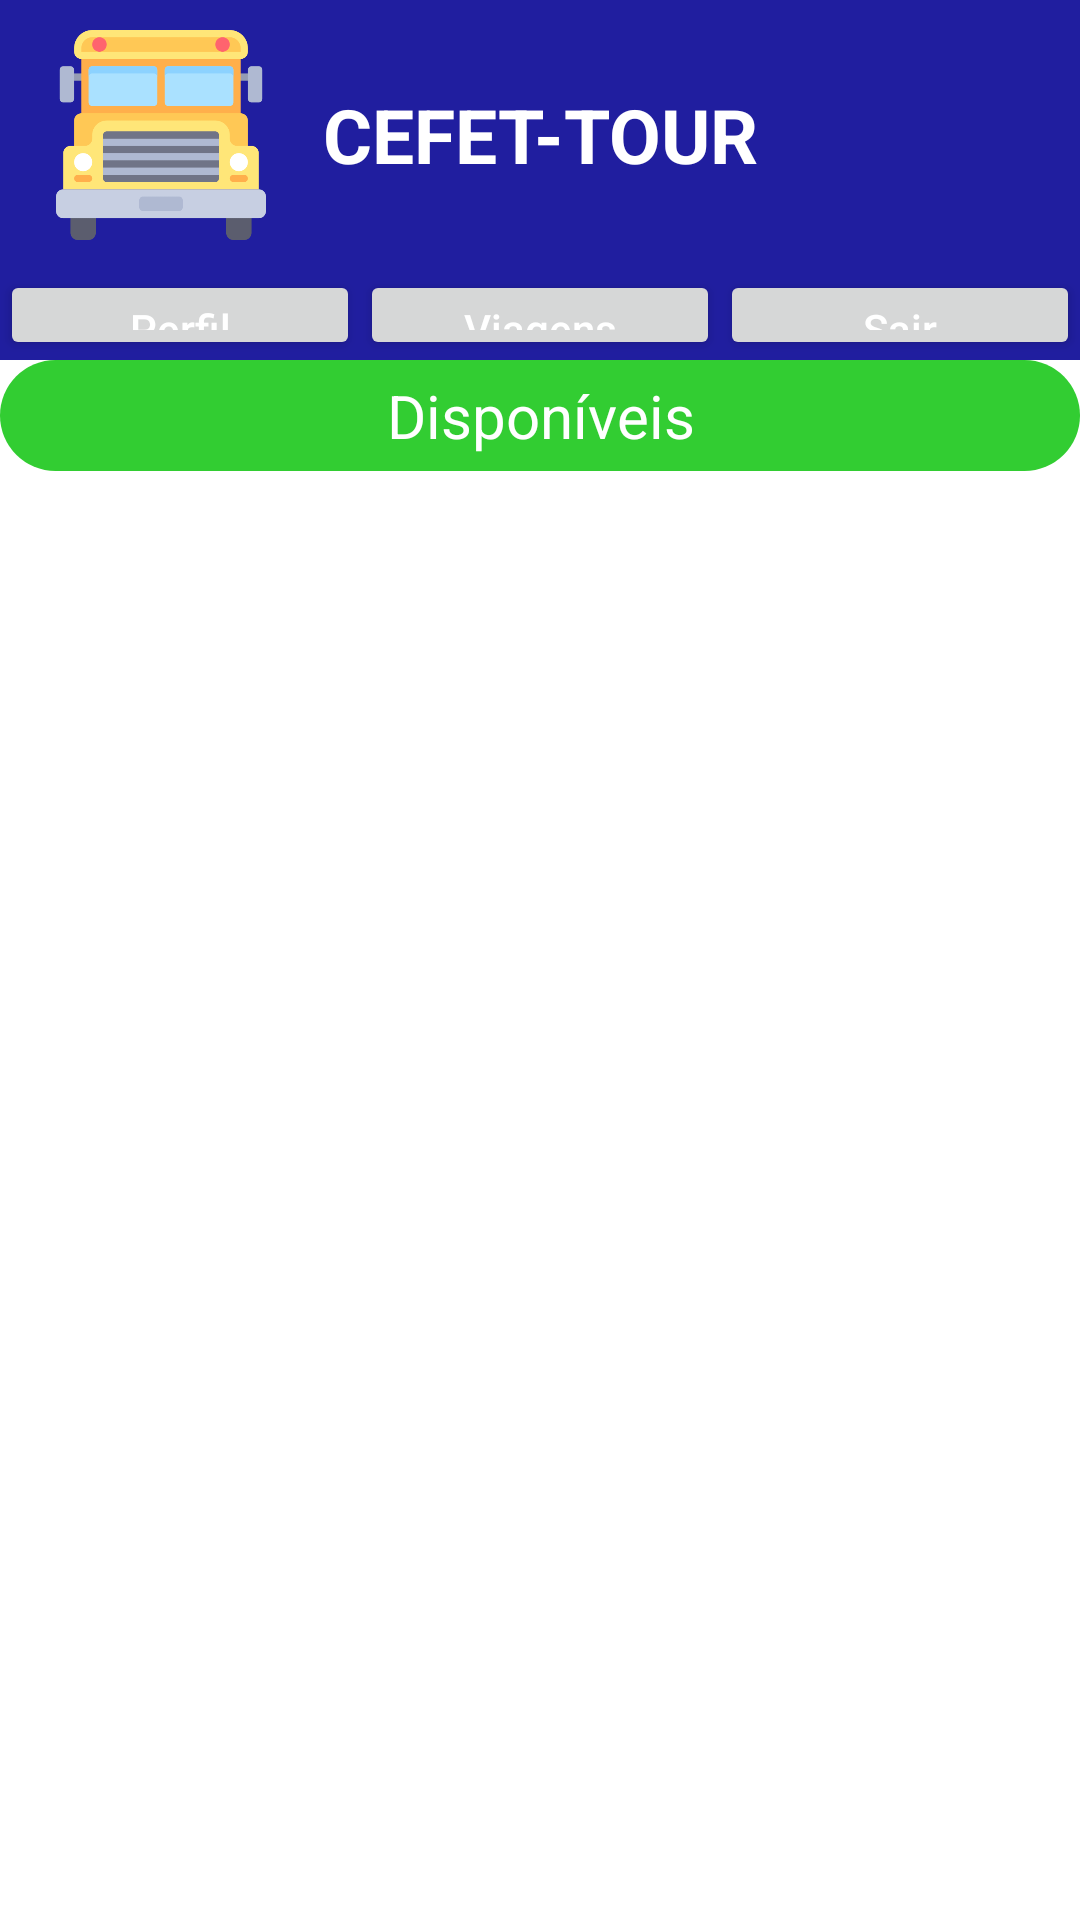

Screen size 1080px×1920px. Icon name, then its center in pixels as (x,y):
schoolbus: (161,135)
